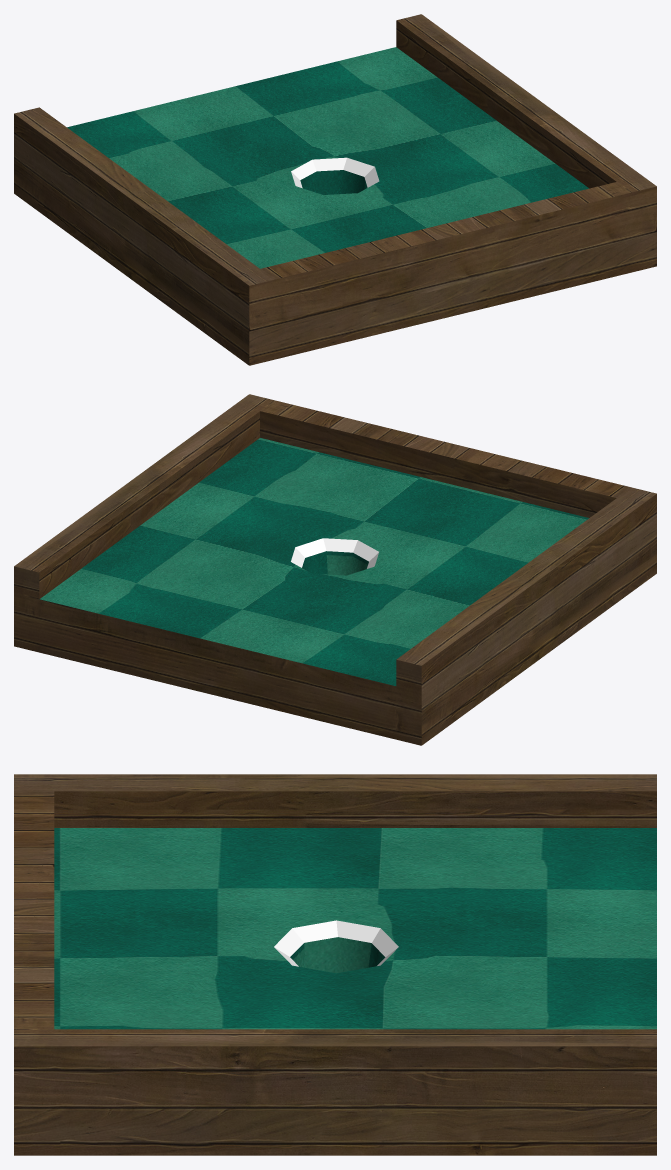
The model's file is End1.gltf.
3 renders of one model, top to bottom at view 1: azimuth 30°, elevation 25°; view 2: azimuth 150°, elevation 25°; view 3: azimuth 270°, elevation 25°, orthographic. The views are drawn at different scales.
Parts seen in each view (by area): view 1: End1_glb; view 2: End1_glb; view 3: End1_glb.
Boxes of the visible parts, box(x1,y1,x2,y2) form: End1_glb: box(14, 14, 656, 365); End1_glb: box(14, 394, 656, 745); End1_glb: box(14, 774, 656, 1155).
Size of what is drawn, in the model's own units: 4 by 0.75 by 4.
3 materials, 2 textured.
